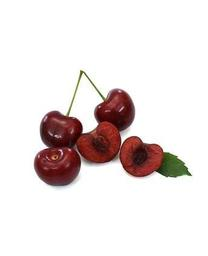cherry: (74, 120, 122, 164), (33, 145, 81, 186), (120, 136, 164, 179), (93, 88, 135, 131), (40, 111, 82, 149)
